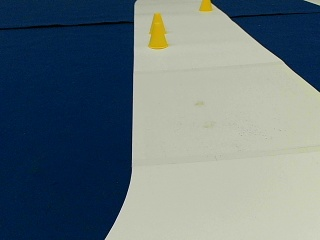cone: (148, 24, 169, 49), (152, 13, 165, 24), (199, 0, 212, 11)
